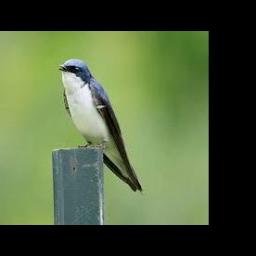Swallow: (57, 59, 143, 192)
